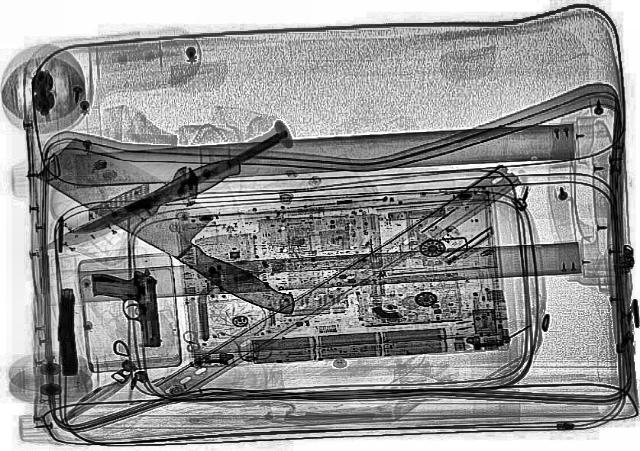Gun: (88, 266, 162, 348), (56, 288, 76, 374)
Knife: (20, 134, 336, 320), (68, 132, 292, 238), (26, 152, 248, 258)
